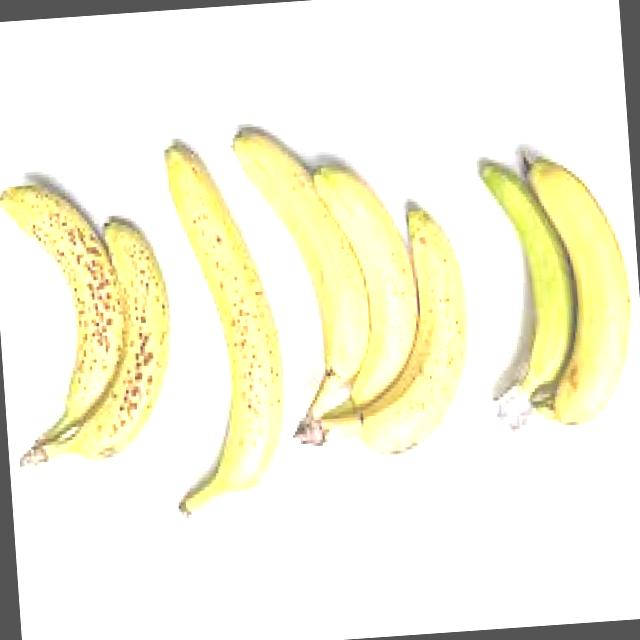Banana: (221, 112, 483, 464), (138, 137, 296, 526), (0, 179, 186, 481), (467, 146, 640, 446)
